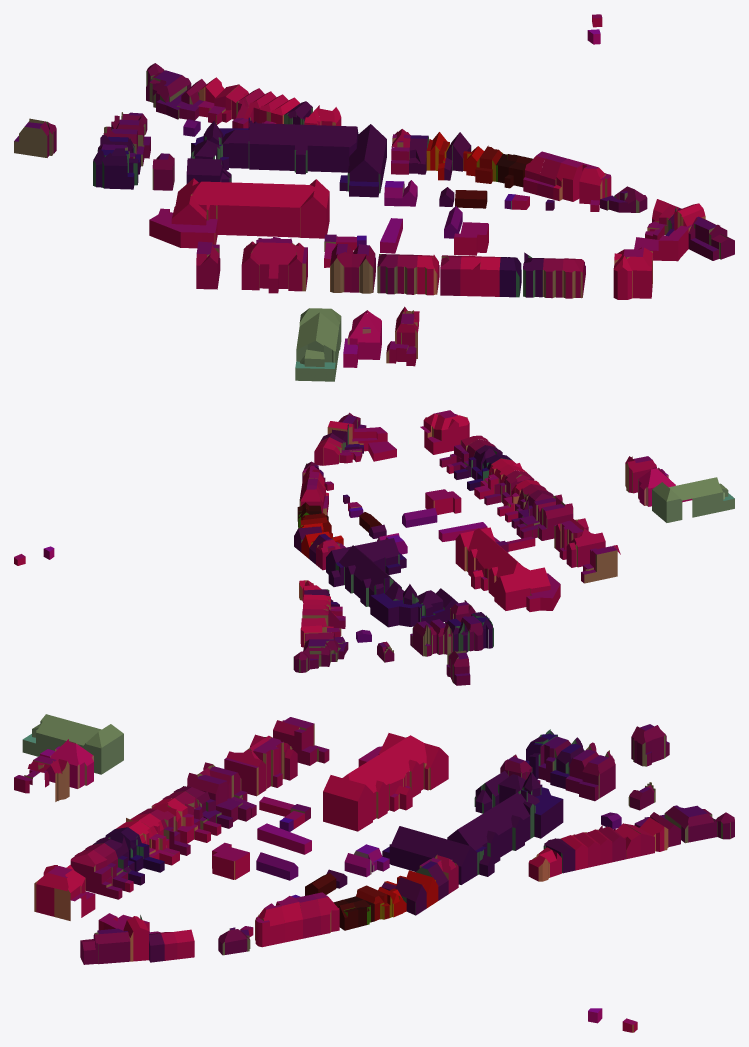
Rendered from buildings_6_9.glb.
The picture shows the model from 3 angles, top to bottom: view 1: azimuth 30°, elevation 25°; view 2: azimuth 150°, elevation 25°; view 3: azimuth 270°, elevation 25°; orthographic projection. The views are drawn at different scales.
Visible parts, largest first — view 1: buildings_6_9; view 2: buildings_6_9; view 3: buildings_6_9.
Boxes of the visible parts, x1,y1,x2,y2 form: buildings_6_9: (14, 14, 734, 381); buildings_6_9: (14, 410, 734, 685); buildings_6_9: (14, 714, 734, 1032).
Size of the model in its own units: 213 by 15.53 by 220.
